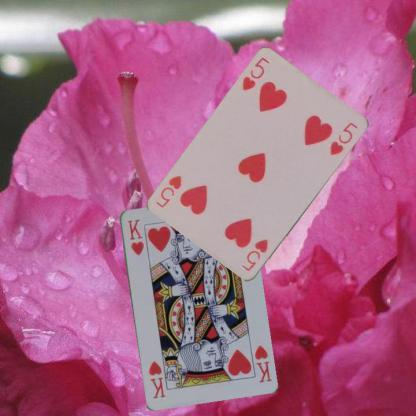5h: (237, 54, 271, 94), (239, 237, 269, 273)
Kh: (251, 342, 273, 384), (125, 216, 145, 258)
